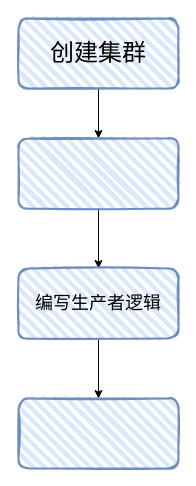
Some shapes in this 196 by 486 pixel diagram are drawn without their labels. Here are the shapes that lost their labels. From the top down, the centre of each, then its label:
[98,173]: 新增Topic
[98,433]: 编写消费者逻辑
